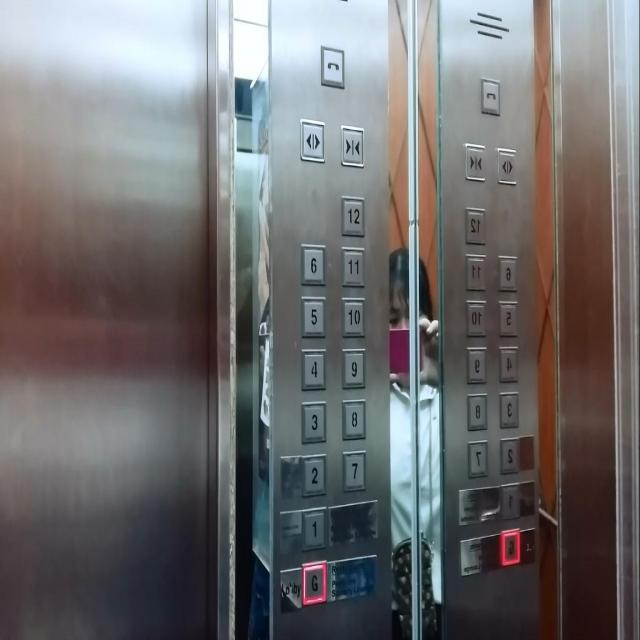1: (302, 505, 328, 553)
10: (340, 295, 366, 337)
11: (340, 243, 365, 289)
12: (341, 192, 365, 238)
2: (300, 452, 326, 499)
3: (300, 399, 326, 445)
4: (299, 347, 327, 391)
5: (300, 294, 326, 338)
6: (299, 241, 326, 286)
7: (341, 448, 367, 494)
8: (341, 397, 366, 440)
9: (341, 346, 366, 389)
G: (302, 559, 326, 606)
call: (320, 43, 345, 89), (480, 76, 501, 115)
close: (340, 122, 366, 170), (498, 147, 518, 185)
open: (298, 115, 324, 163), (464, 142, 487, 183)
unknown: (464, 250, 487, 292), (497, 344, 520, 384), (497, 298, 519, 338), (465, 344, 487, 384), (466, 392, 488, 432), (466, 438, 488, 478), (496, 253, 519, 291), (465, 205, 487, 244), (466, 298, 486, 338), (500, 526, 520, 566), (499, 434, 518, 474), (498, 391, 519, 427), (501, 482, 519, 518)
